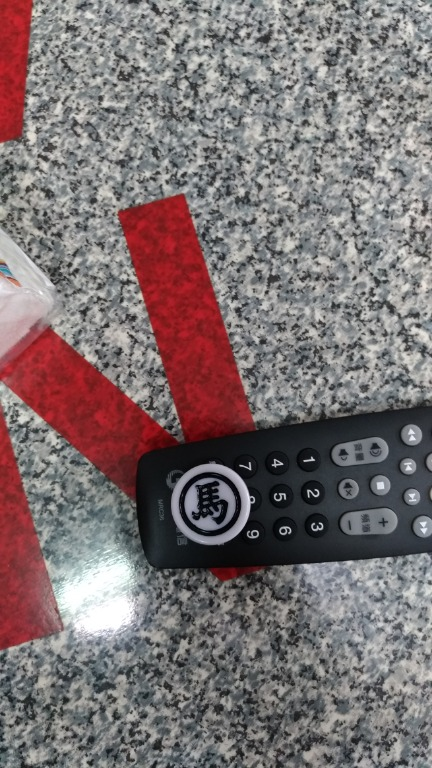b-knight: (170, 453, 256, 558)
